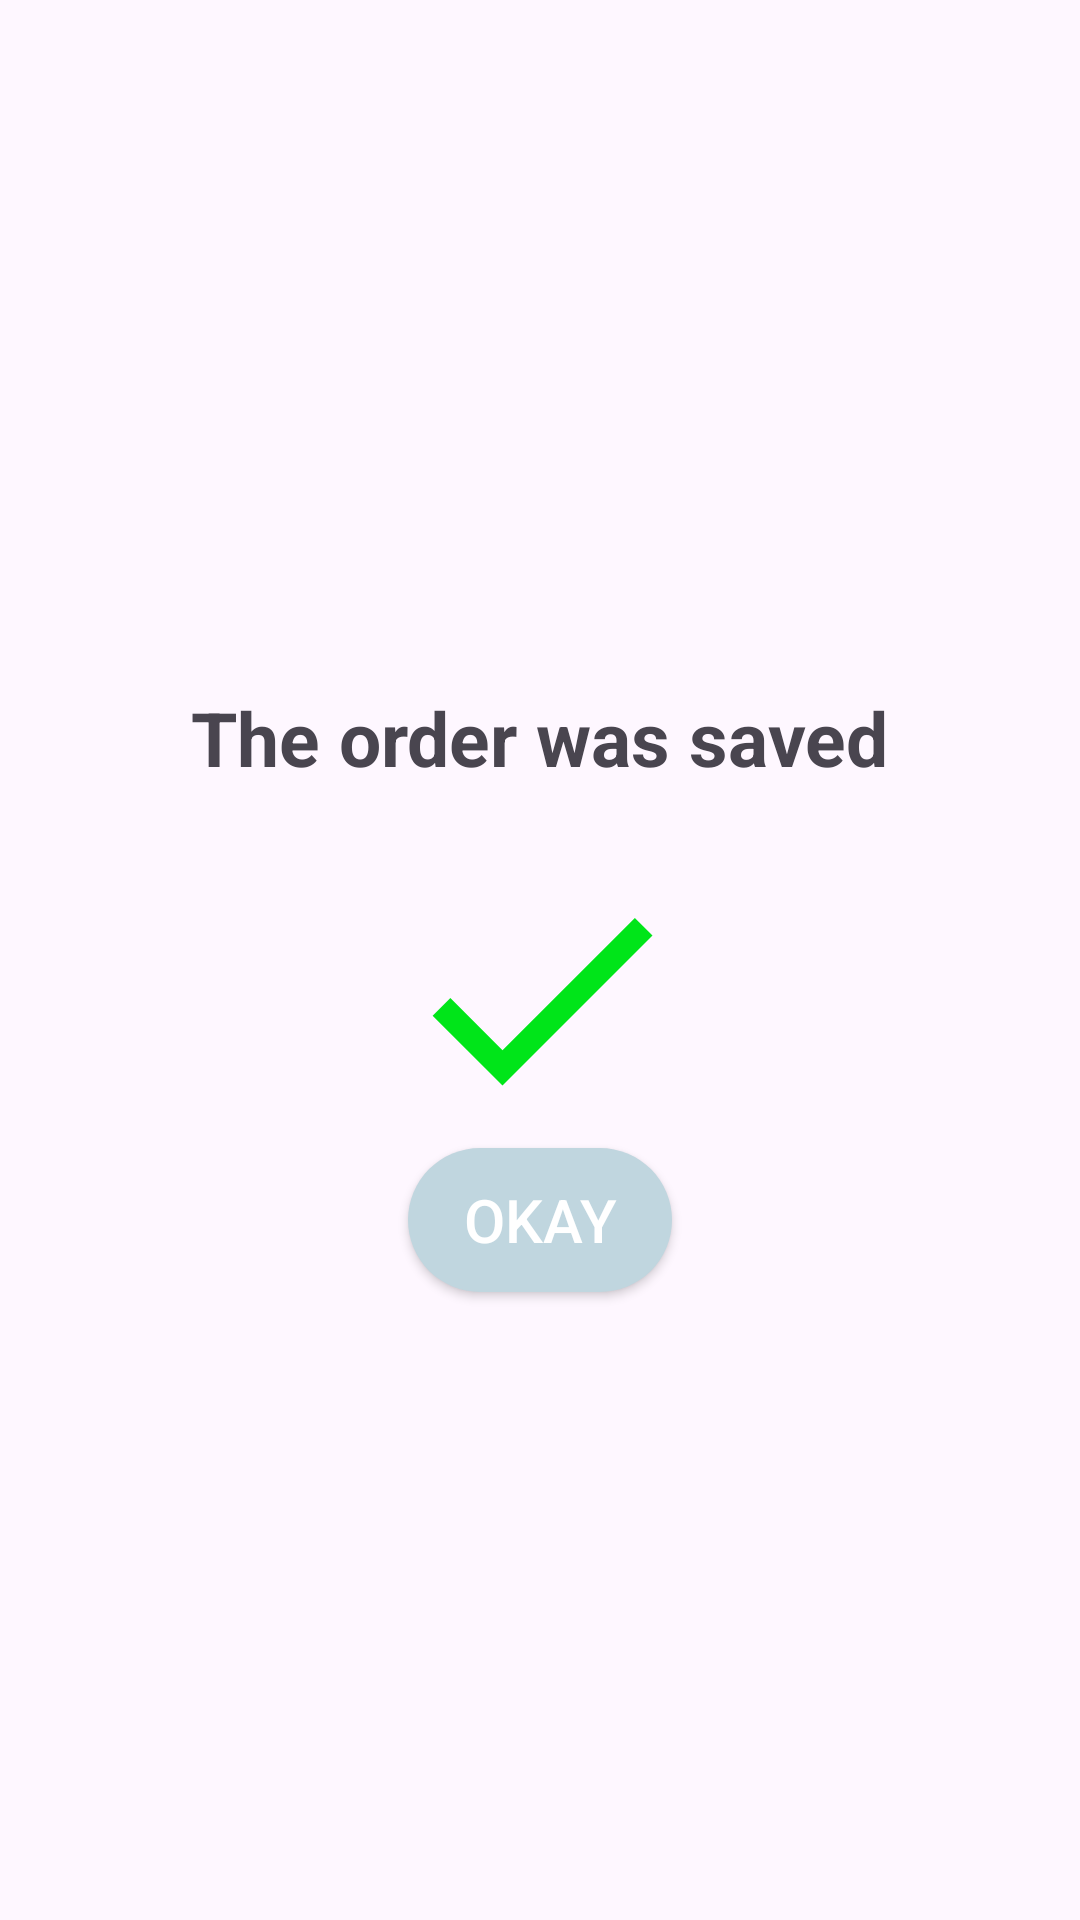

Screen size 1080px×1920px. Icon name, then its box in pixels as (x1, y1, x2, y2):
success: (432, 918, 653, 1086)
